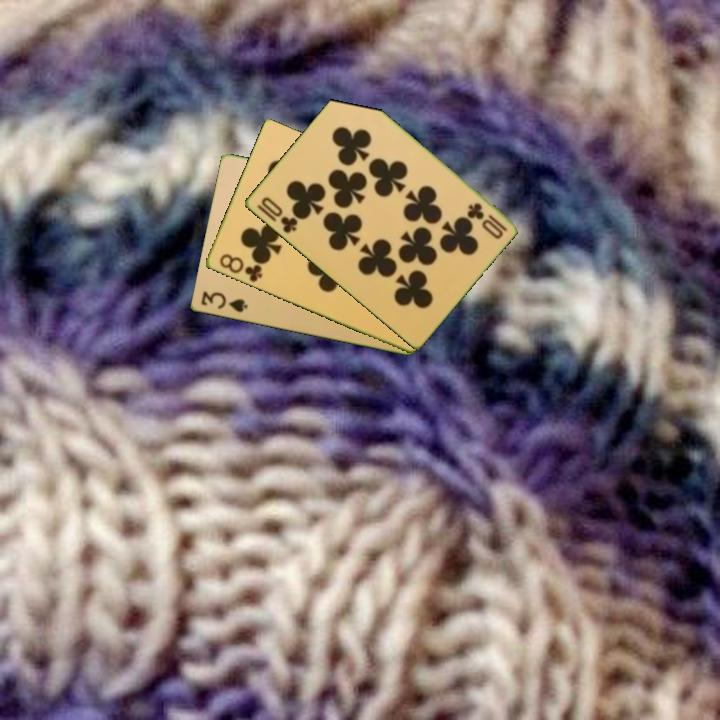10c: (253, 193, 300, 236), (463, 199, 510, 242)
3s: (197, 288, 250, 316)
8c: (215, 250, 265, 285)
